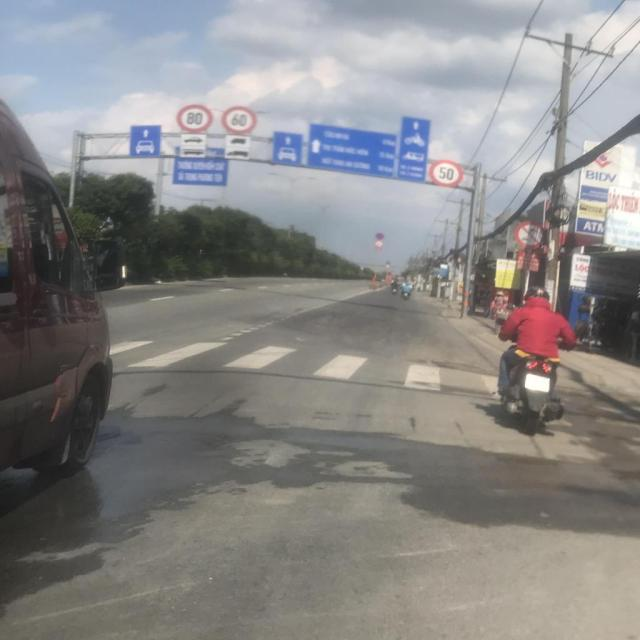cam_cac_loai_xe_3_banh: (514, 222, 545, 250)
duong_cho_xe_o_to: (129, 125, 161, 157), (272, 132, 302, 166)
khac: (307, 124, 396, 178), (396, 116, 429, 182), (177, 146, 206, 158), (224, 148, 250, 160), (181, 134, 206, 146), (227, 136, 251, 148)
toc_do_toi_da_50: (429, 160, 464, 187)
toc_do_toi_da_60: (221, 107, 259, 135)
toc_do_toi_da_80: (176, 105, 213, 133)
